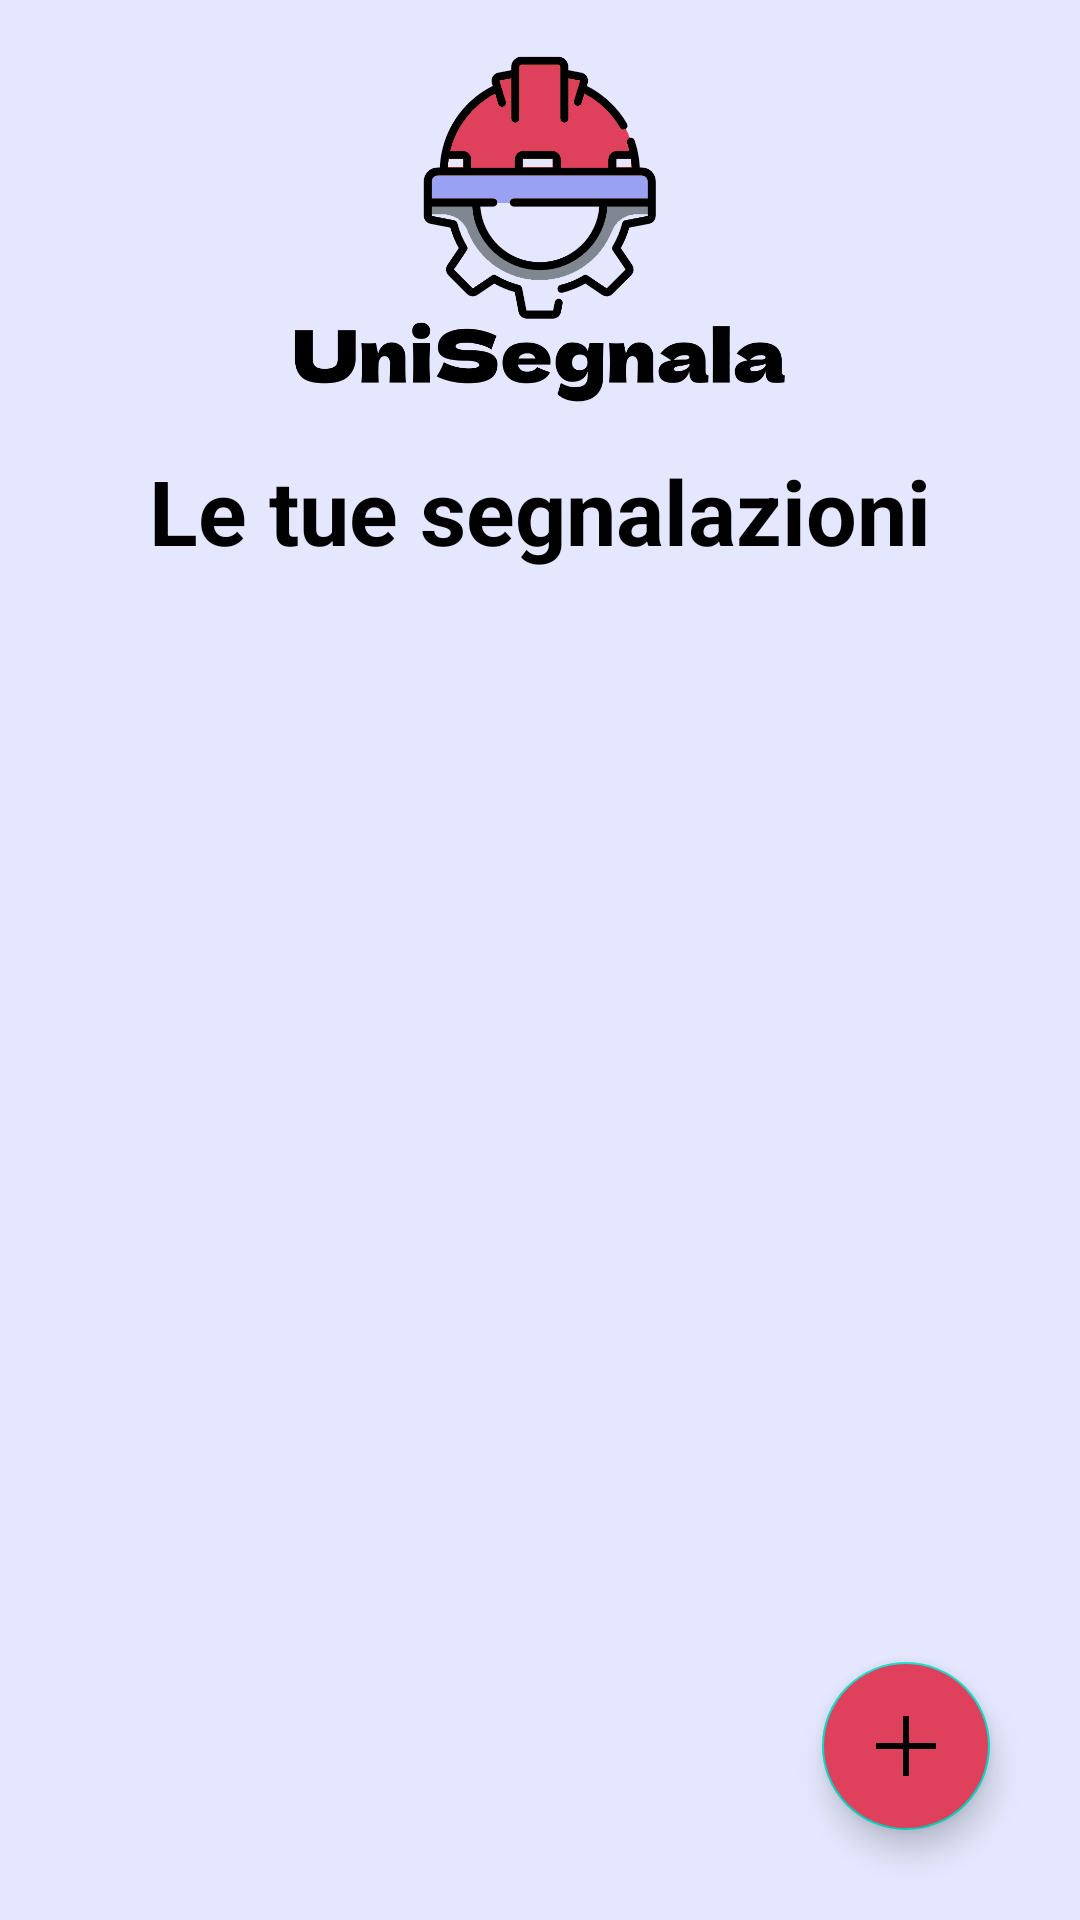

Screen size 1080 x 1920. Icon name, then its box in pixels as (x1, y1, x2, y2):
plus: (822, 1662, 990, 1830)
